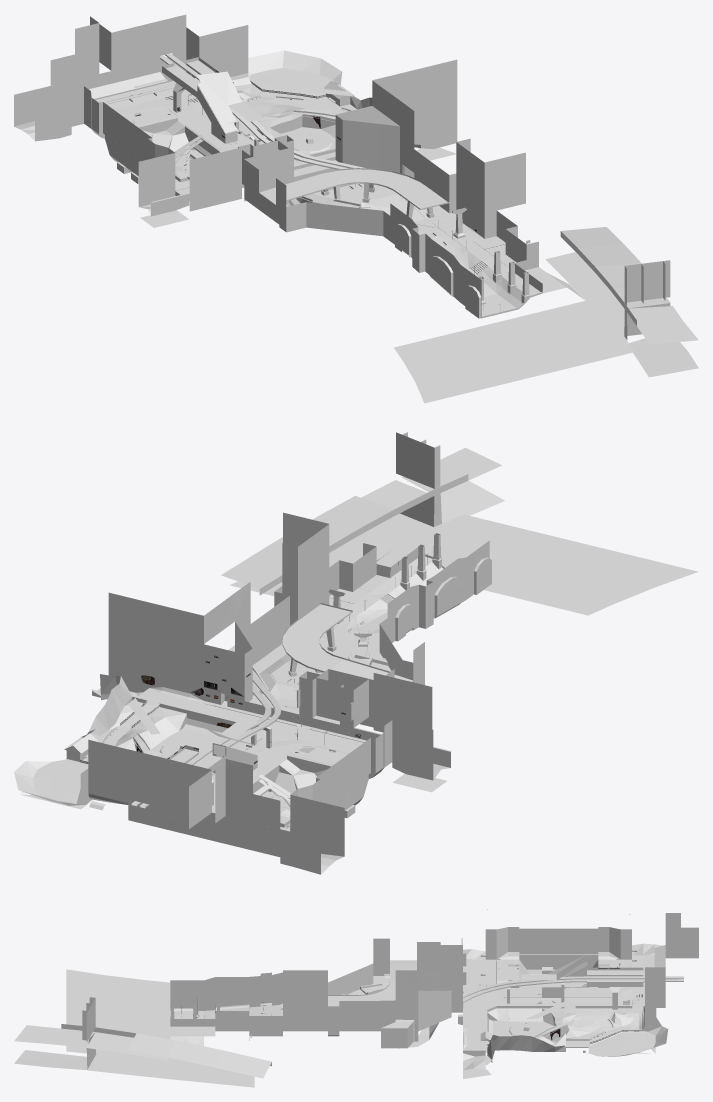
The picture shows the model from 3 angles, top to bottom: view 1: azimuth 30°, elevation 25°; view 2: azimuth 150°, elevation 25°; view 3: azimuth 270°, elevation 25°; orthographic projection. The views are drawn at different scales.
Parts seen in each view (by area): view 1: SKNY_Col_Floor, SKNY_Col_Ride, SKNY_Col_Wall, SKNY_Col_Pipe; view 2: SKNY_Col_Ride, SKNY_Col_Floor, SKNY_Col_Wall, SKNY_Col_Pipe; view 3: SKNY_Col_Floor, SKNY_Col_Ride, SKNY_Col_Wall, SKNY_Col_Pipe.
Boxes of the visible parts, left/top/right/bottom form: SKNY_Col_Floor: left=14, top=50, right=698, bottom=403; SKNY_Col_Ride: left=14, top=14, right=542, bottom=318; SKNY_Col_Wall: left=14, top=43, right=670, bottom=339; SKNY_Col_Pipe: left=91, top=73, right=522, bottom=316; SKNY_Col_Ride: left=66, top=512, right=491, bottom=867; SKNY_Col_Floor: left=14, top=447, right=698, bottom=874; SKNY_Col_Wall: left=64, top=432, right=468, bottom=874; SKNY_Col_Pipe: left=88, top=567, right=460, bottom=828; SKNY_Col_Floor: left=14, top=909, right=683, bottom=1087; SKNY_Col_Ride: left=170, top=913, right=698, bottom=1062; SKNY_Col_Wall: left=61, top=949, right=654, bottom=1069; SKNY_Col_Pipe: left=174, top=952, right=654, bottom=1060.
Size of the model in its own units: 219 by 60.25 by 475.
Materials: 65 (63 with a texture image).
